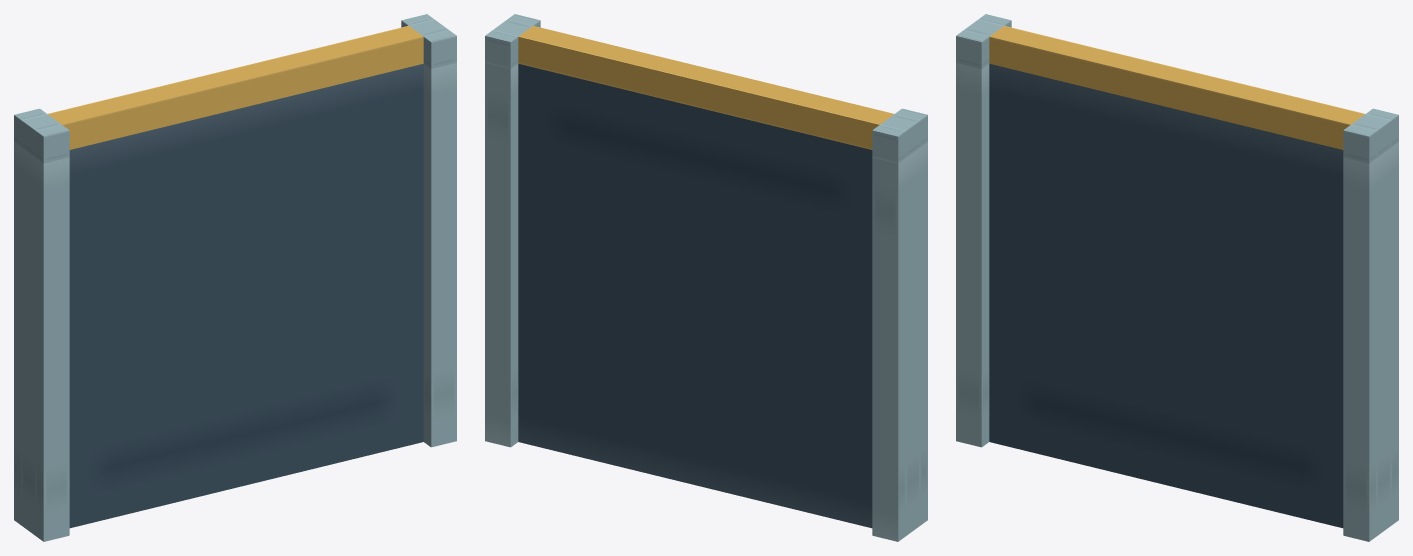
The model's file is sc_edge_wall.obj.
3 views of the same model, side by side, from view 1: azimuth 30°, elevation 25°; view 2: azimuth 150°, elevation 25°; view 3: azimuth 330°, elevation 25° (orthographic).
Size of the model in its own units: 20 by 18.75 by 2.5.
Materials: 1 (1 with a texture image).
